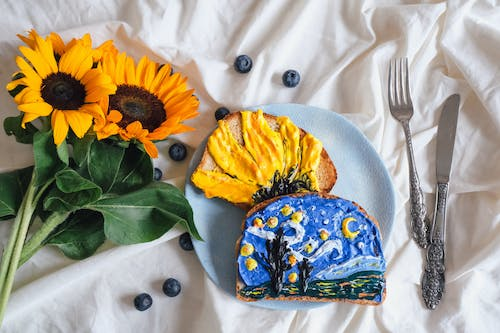knife: (419, 91, 462, 311)
